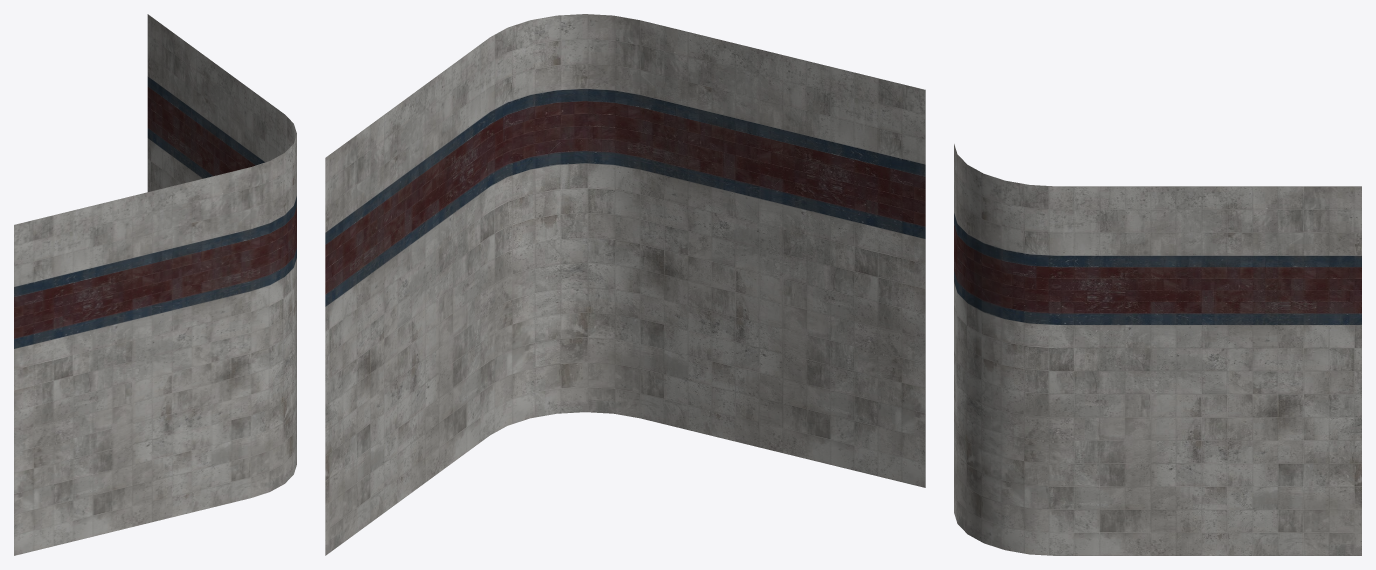
The model's file is SM_Wall_Curved_Right_200u.glb.
The picture shows the model from 3 angles, left to right: view 1: azimuth 30°, elevation 25°; view 2: azimuth 150°, elevation 25°; view 3: azimuth 270°, elevation 25°; orthographic projection. The views are drawn at different scales.
Parts seen in each view (by area): view 1: SM_Wall_Curved_Right_200u; view 2: SM_Wall_Curved_Right_200u; view 3: SM_Wall_Curved_Right_200u.
Boxes of the visible parts, <box> form: SM_Wall_Curved_Right_200u: <box>14,14,296,555</box>; SM_Wall_Curved_Right_200u: <box>325,14,925,555</box>; SM_Wall_Curved_Right_200u: <box>954,144,1361,555</box>.
Size of the model in its own units: 2.6 by 2.6 by 2.6.
Materials: 1 (1 with a texture image).
